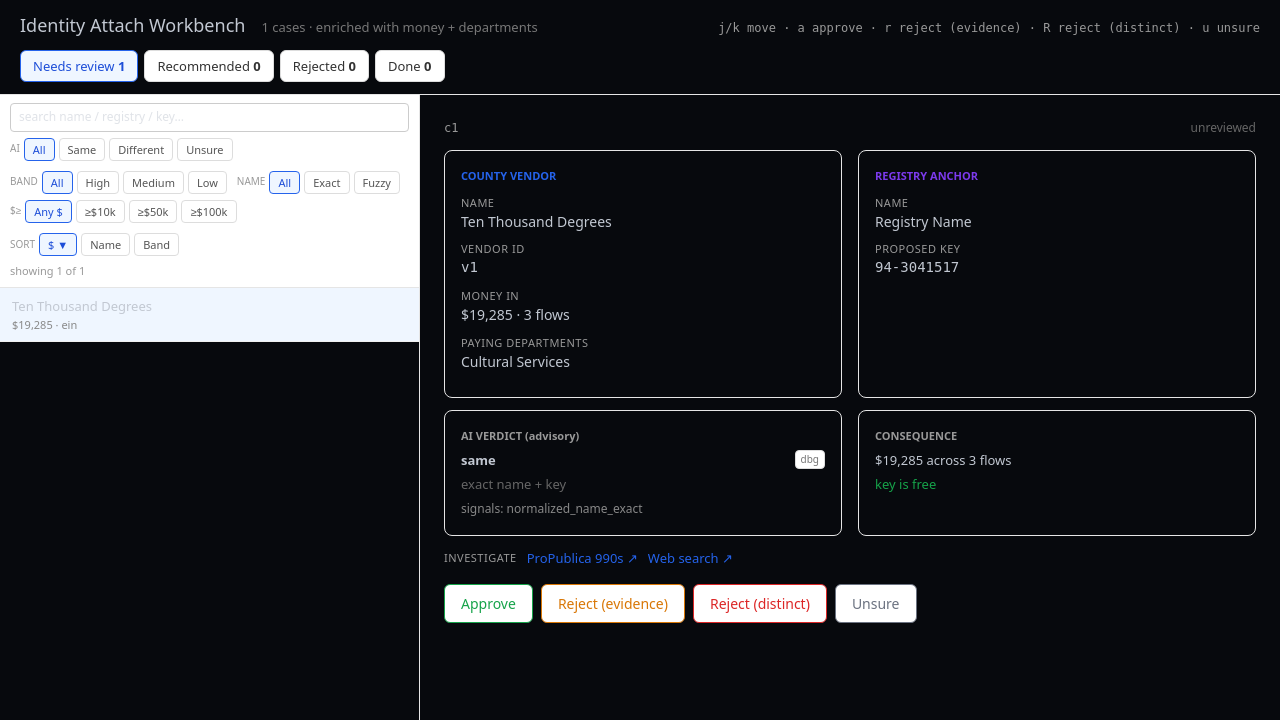
it: Bench › approves the selected case and moves it out of needs-review
Click the button "Approve": (488, 604) [444, 584, 533, 623]
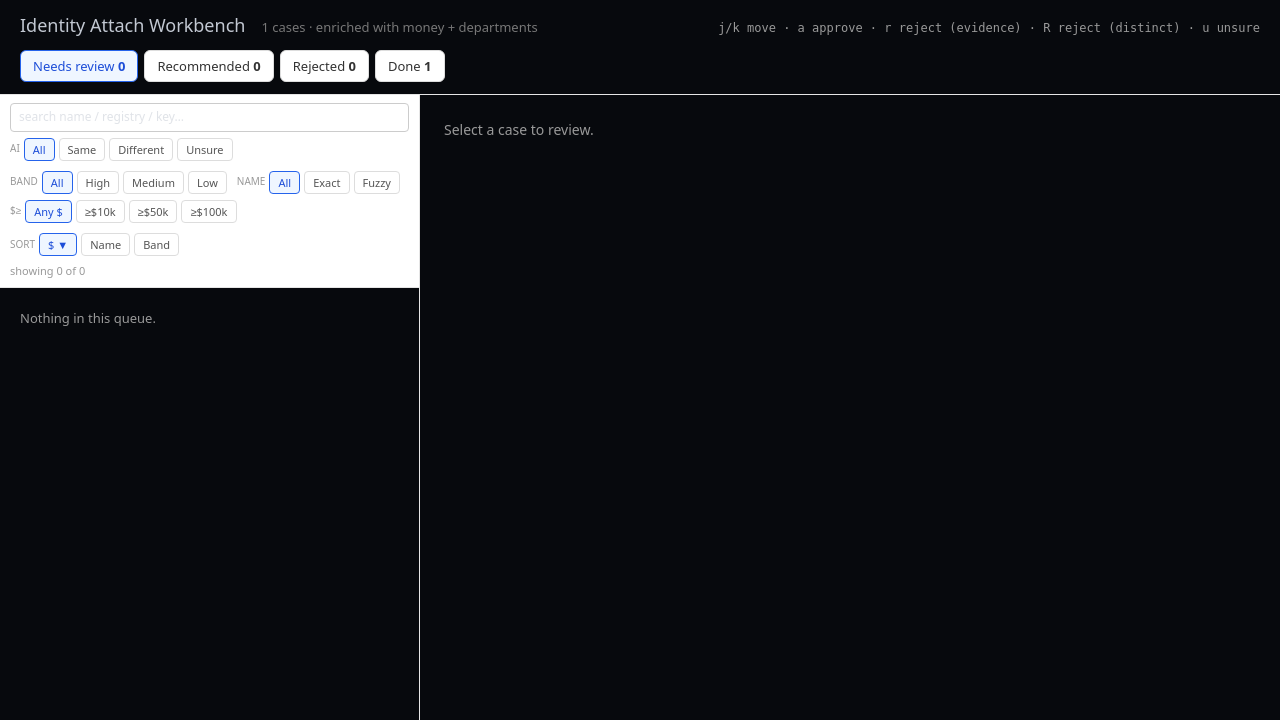
Check: the button with test id "tab-needsReview" shows "0", box [20, 50, 138, 82]
Check: the button with test id "tab-done" shows "1", box [375, 50, 445, 82]
